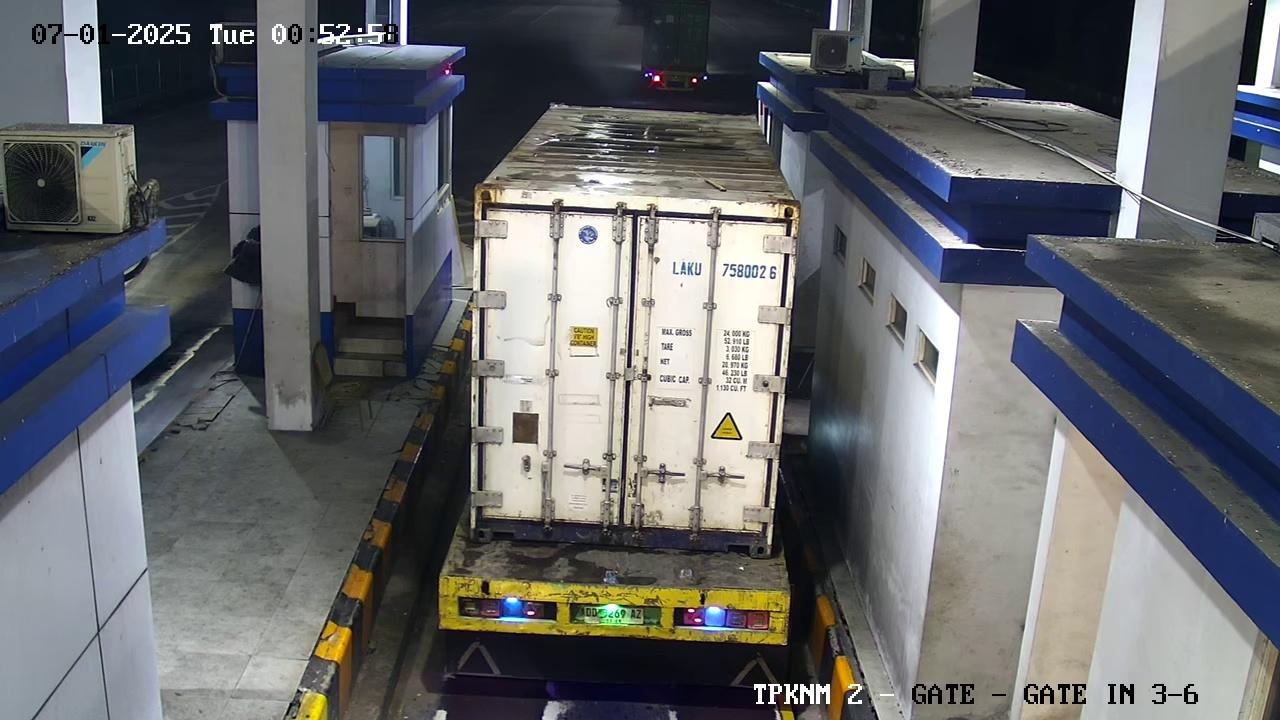Container_ID: (646, 244, 792, 296)
plate_number: (572, 599, 665, 628)
